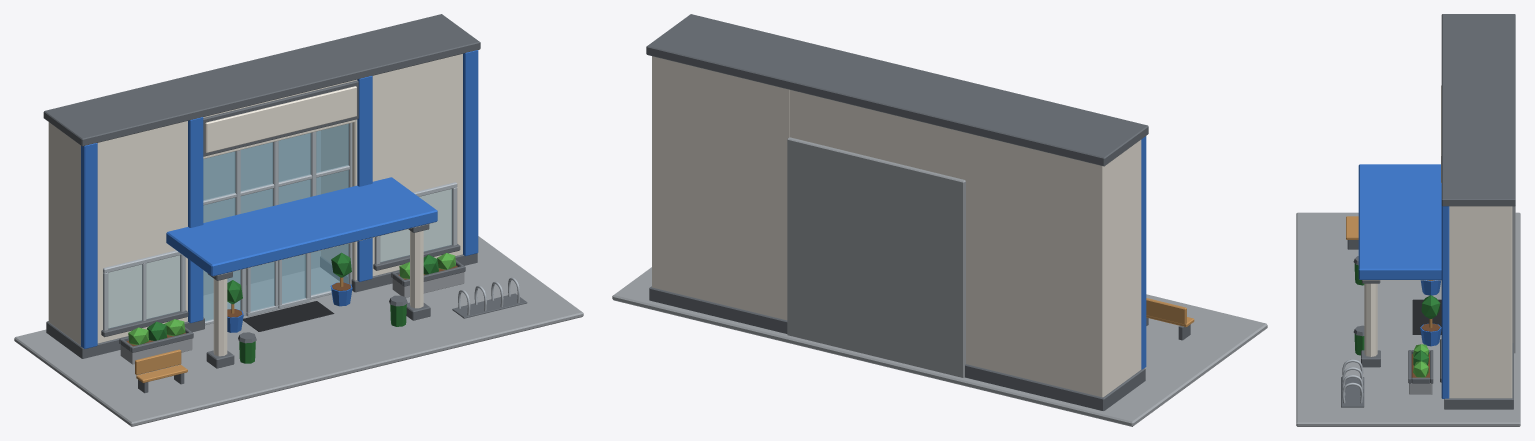
File: shopping-mall-entrance.glb
The picture shows the model from 3 angles, left to right: view 1: azimuth 30°, elevation 25°; view 2: azimuth 150°, elevation 25°; view 3: azimuth 270°, elevation 25°; orthographic projection. The views are drawn at different scales.
Parts seen in each view (by area): view 1: Sidewalk, Wall_Left, Cornice, Wall_Right, Canopy, Glass_Upper, Lobby_BackWall, Sign_Blank, Window_Left_Glass, Pilaster_0, Pilaster_3, Pilaster_1 (+22 smaller); view 2: Wall_Left, Lobby_BackWall, Wall_Right, Cornice, Sidewalk, Wall_TopBeam, BaseTrim_Left, BaseTrim_Right, Pilaster_0, Bench_Back; view 3: Sidewalk, Cornice, Wall_Right, Canopy, Pilaster_3, Column_R, BaseTrim_Right, BikeRack_Base, Doormat, Lobby_BackWall, Pot_R_Shrub, Pot_R (+4 smaller).
Part boxes in pixels (left/top/right/bottom): Sidewalk: left=14, top=236, right=583, bottom=426; Wall_Left: left=48, top=121, right=187, bottom=345; Cornice: left=43, top=14, right=480, bottom=146; Wall_Right: left=321, top=54, right=462, bottom=280; Canopy: left=166, top=177, right=437, bottom=276; Glass_Upper: left=203, top=124, right=348, bottom=222; Lobby_BackWall: left=203, top=130, right=320, bottom=295; Sign_Blank: left=205, top=86, right=356, bottom=152; Window_Left_Glass: left=108, top=255, right=179, bottom=328; Pilaster_0: left=81, top=143, right=97, bottom=348; Pilaster_3: left=463, top=50, right=478, bottom=256; Pilaster_1: left=188, top=117, right=203, bottom=323; Wall_Left: left=965, top=132, right=1141, bottom=397; Lobby_BackWall: left=787, top=137, right=965, bottom=377; Wall_Right: left=652, top=56, right=789, bottom=320; Cornice: left=646, top=14, right=1148, bottom=166; Sidewalk: left=612, top=267, right=1267, bottom=426; Wall_TopBeam: left=790, top=90, right=964, bottom=179; BaseTrim_Left: left=965, top=364, right=1145, bottom=410; BaseTrim_Right: left=649, top=286, right=787, bottom=333; Pilaster_0: left=1141, top=136, right=1146, bottom=369; Bench_Back: left=1146, top=298, right=1186, bottom=324; Sidewalk: left=1296, top=212, right=1520, bottom=426; Cornice: left=1441, top=14, right=1515, bottom=206; Wall_Right: left=1449, top=206, right=1512, bottom=398; Canopy: left=1358, top=164, right=1441, bottom=279; Pilaster_3: left=1441, top=206, right=1449, bottom=398; Column_R: left=1364, top=283, right=1377, bottom=356; BaseTrim_Right: left=1444, top=343, right=1513, bottom=409; BikeRack_Base: left=1341, top=377, right=1364, bottom=407; Doormat: left=1412, top=299, right=1441, bottom=334; Lobby_BackWall: left=1512, top=206, right=1515, bottom=353; Pot_R_Shrub: left=1421, top=295, right=1440, bottom=318; Pot_R: left=1420, top=323, right=1441, bottom=346.
Bounding box in the file's own units: 60 × 28.6 × 27.
